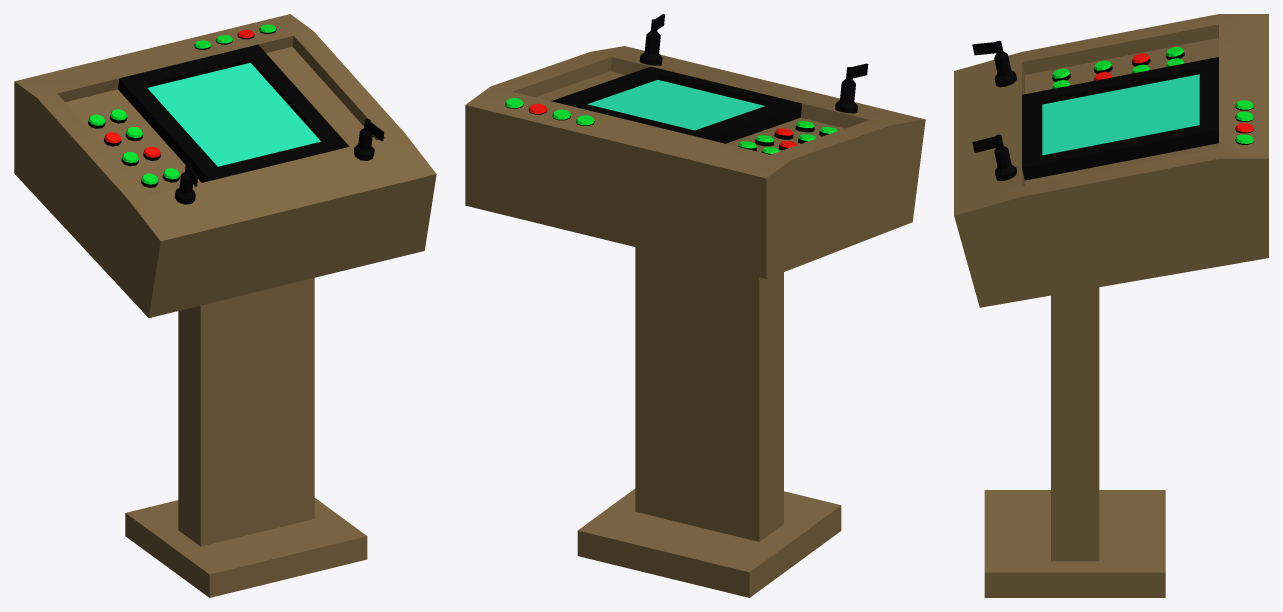
Rendered from SM_ProdLine_control_c.FBX.
3 views of the same model, side by side, from view 1: azimuth 30°, elevation 25°; view 2: azimuth 150°, elevation 25°; view 3: azimuth 270°, elevation 25° (orthographic). The views are drawn at different scales.
Parts seen in each view (by area): view 1: SM_ProdLine_control_c_LOD0; view 2: SM_ProdLine_control_c_LOD0; view 3: SM_ProdLine_control_c_LOD0.
Part boxes in pixels (box(x1,y1,x2,y2)): SM_ProdLine_control_c_LOD0: box(14, 14, 436, 597); SM_ProdLine_control_c_LOD0: box(465, 14, 925, 597); SM_ProdLine_control_c_LOD0: box(954, 14, 1268, 597).
Bounding box in the file's own units: 69.54 × 63.87 × 106.
